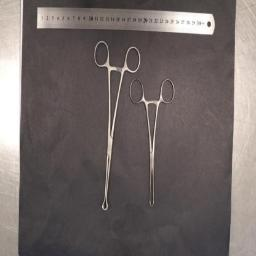Allis Tissue Forceps: (129, 78, 175, 206)
